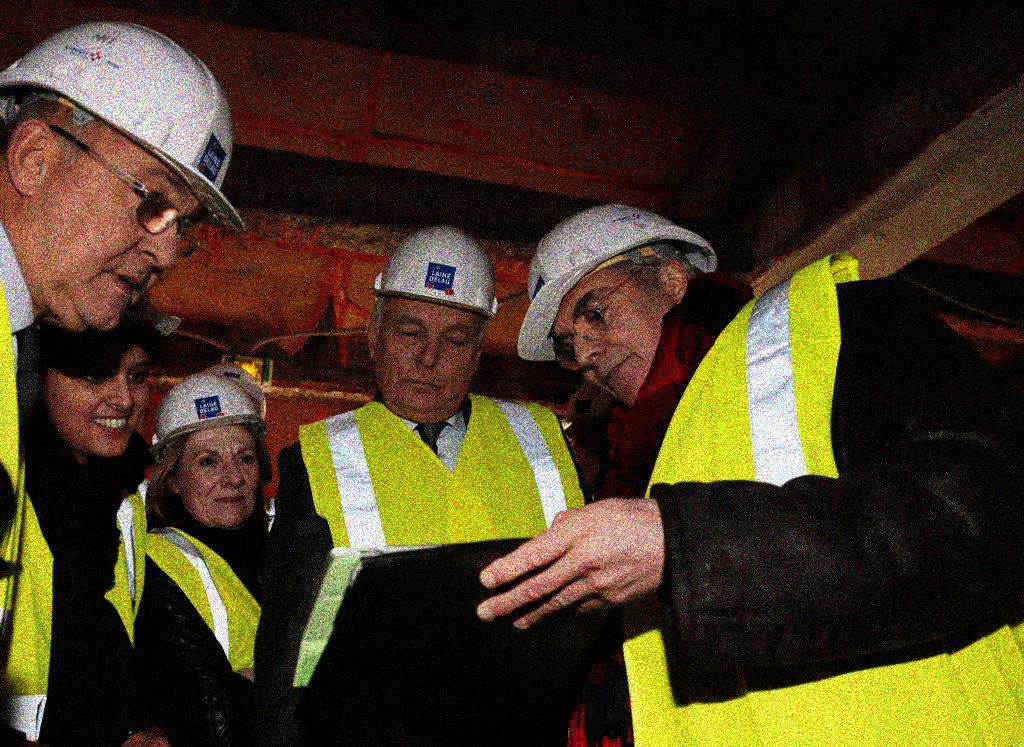helmet: (1, 11, 252, 338), (518, 202, 721, 407), (30, 275, 182, 463), (366, 218, 501, 427), (150, 368, 275, 531), (202, 355, 272, 427)
